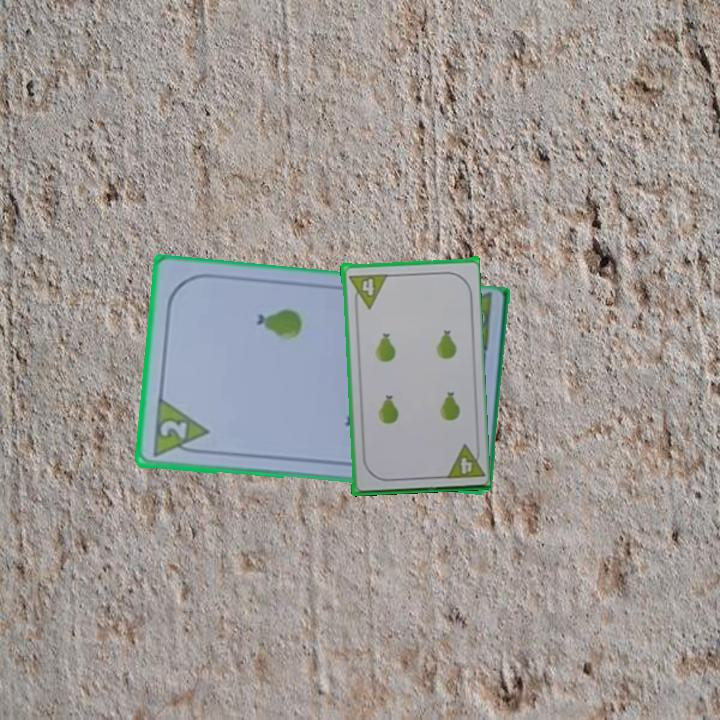2p: (148, 395, 211, 460)
4p: (440, 440, 485, 482), (345, 270, 389, 311)
